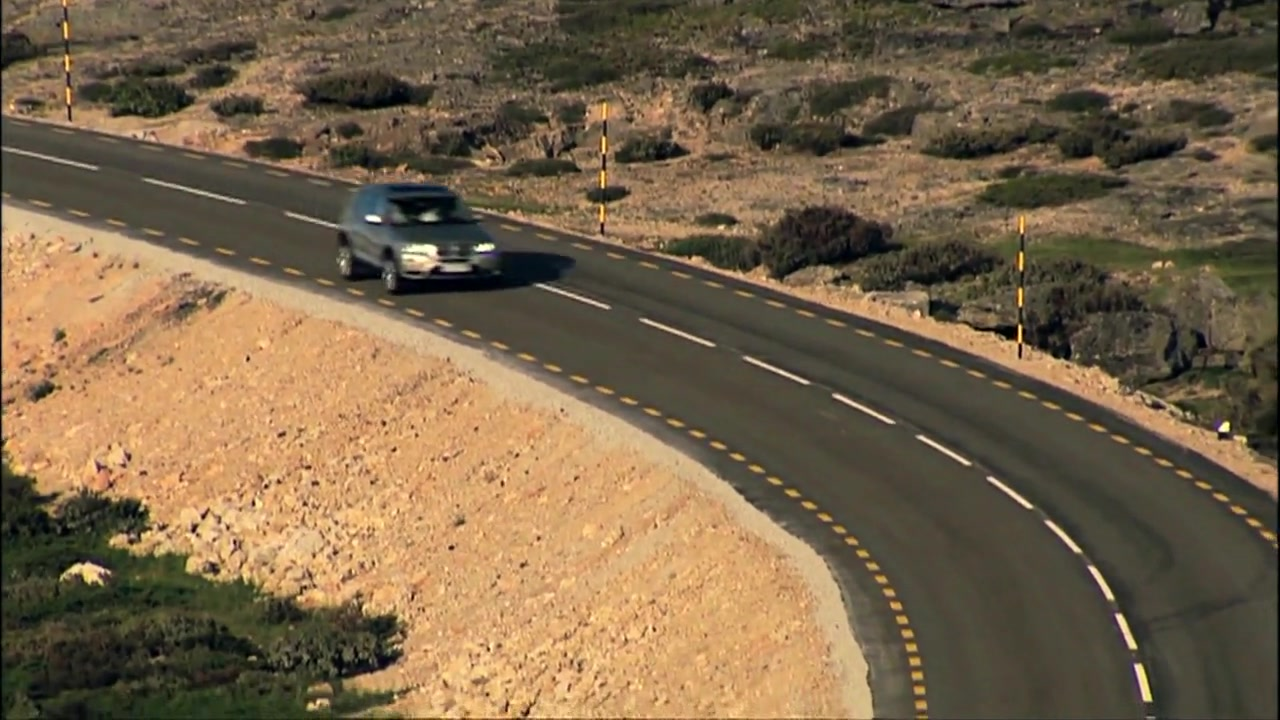car: (336, 185, 507, 298)
